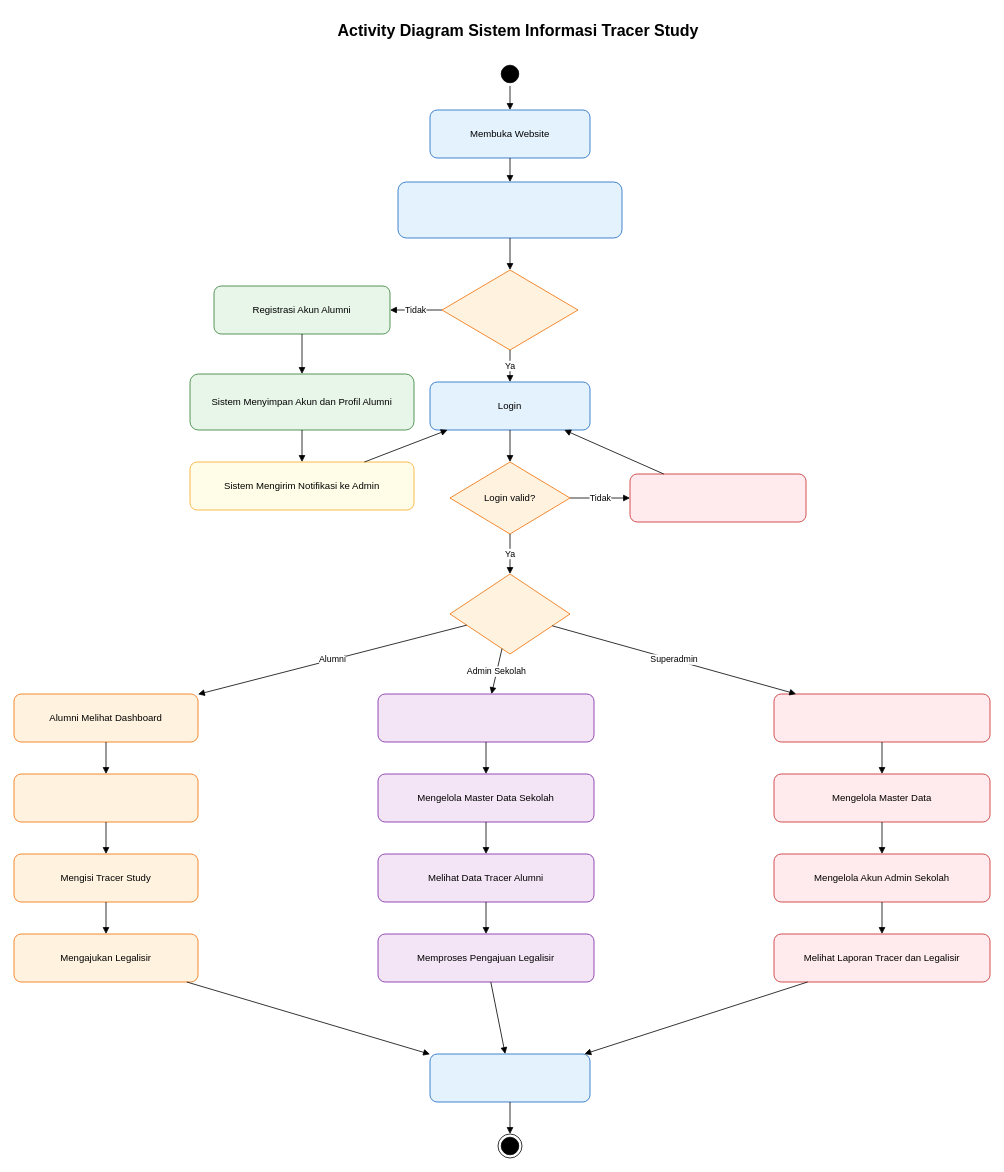
Image size: 1004x1172. Some labels were removed from this diagram. The centre of each missing label's shape, as x and y in pixels:
Admin Sekolah Melihat Dashboard: (485,717)
Logout: (509,1077)
Melihat Landing Page dan Statistik Publik: (509,209)
Menampilkan Pesan Error: (717,497)
Mengelola Profil Alumni: (105,797)
Role Pengguna: (509,613)
Sudah punya akun?: (509,309)
Superadmin Melihat Dashboard: (881,717)
